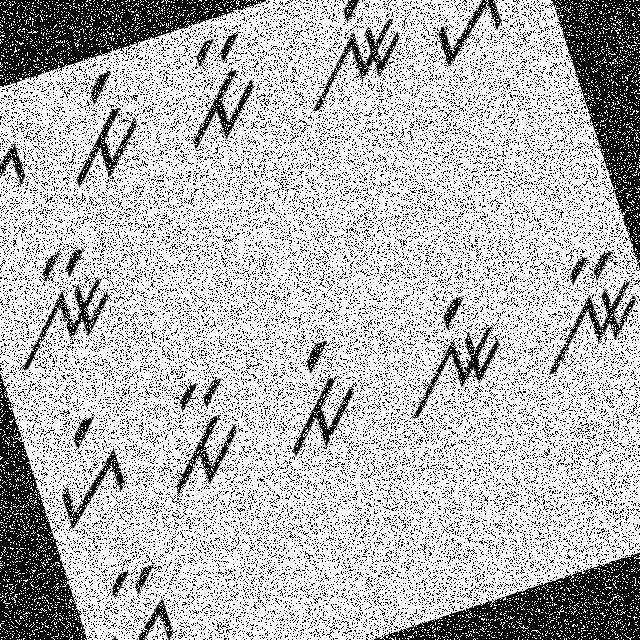han: (81, 554, 197, 639), (412, 0, 525, 72)
hang: (31, 406, 141, 534), (0, 97, 47, 230)
mban: (137, 363, 260, 504), (153, 22, 280, 156)
mbang: (253, 324, 379, 466), (39, 60, 164, 198)
ndan: (512, 234, 639, 383), (0, 232, 131, 375)
ndang: (380, 280, 520, 432), (265, 0, 424, 132)
